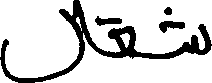ا: (77, 0, 92, 65)
ش: (155, 6, 210, 55)
ع: (110, 15, 136, 58)
ل: (0, 0, 79, 82)
